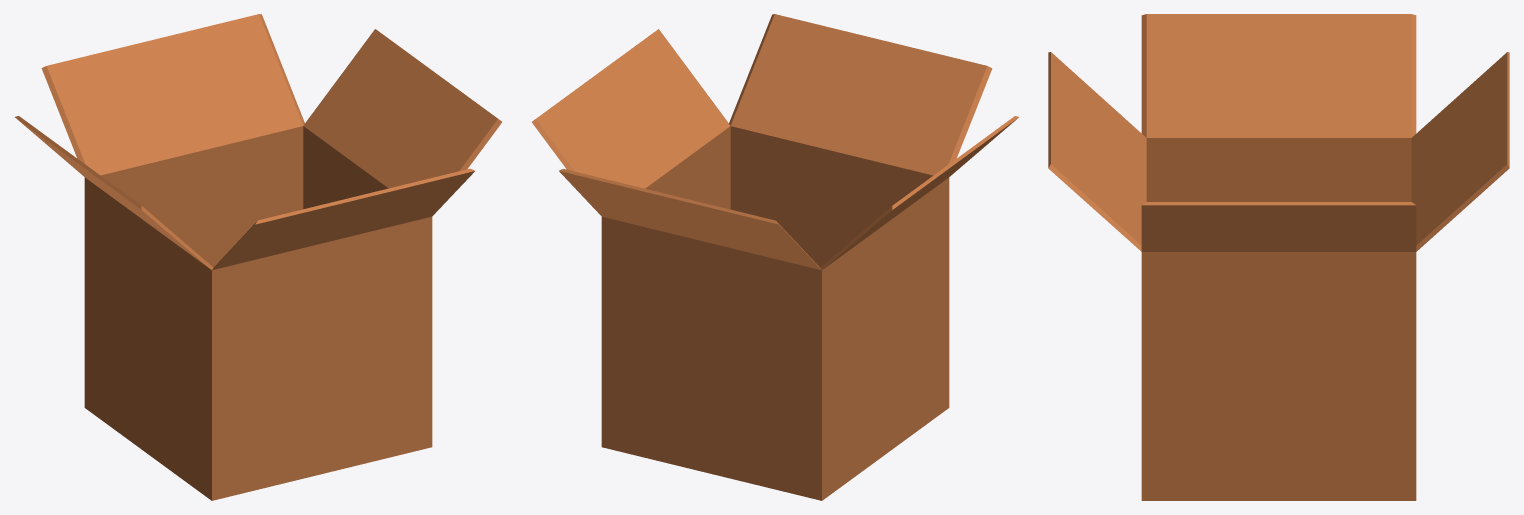
Rendered from Cardboard_Box_Open.fbx.
3 renders of one model, left to right at view 1: azimuth 30°, elevation 25°; view 2: azimuth 150°, elevation 25°; view 3: azimuth 270°, elevation 25°, orthographic. The views are drawn at different scales.
Parts seen in each view (by area): view 1: Cube; view 2: Cube; view 3: Cube.
Part boxes in pixels (bbox=[...]): Cube: bbox=[15, 14, 501, 500]; Cube: bbox=[532, 14, 1018, 500]; Cube: bbox=[1048, 14, 1509, 500].
Size of the model in its own units: 327 by 269 by 336.
